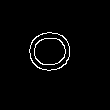O_E: (27, 31, 83, 79)
